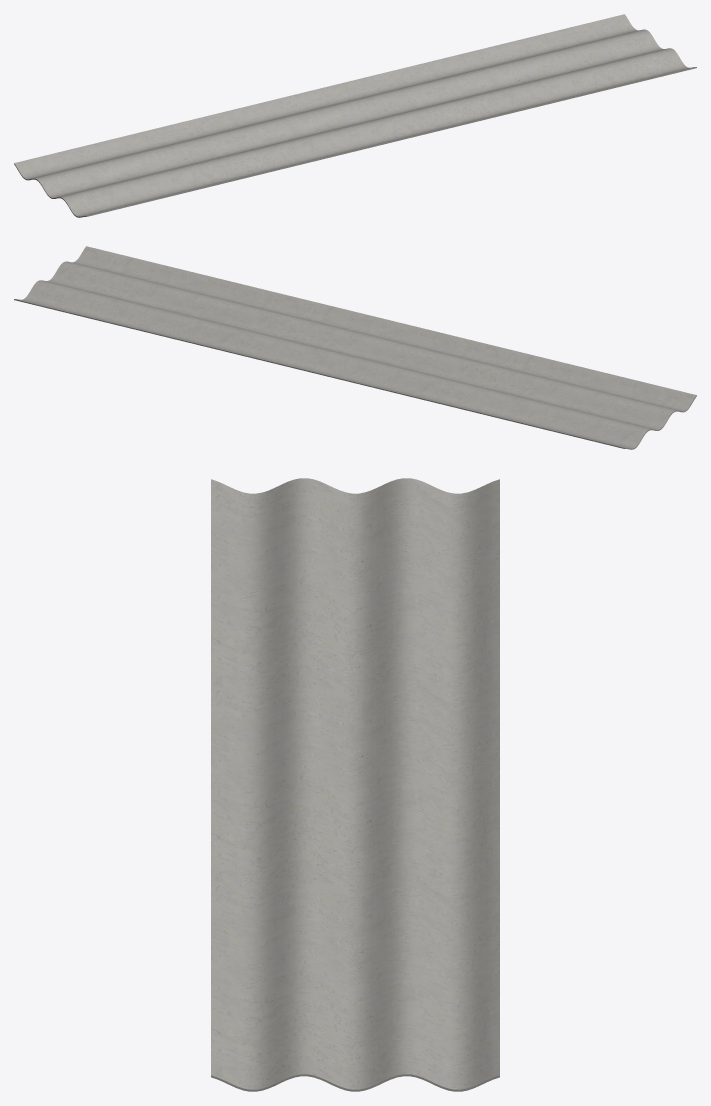
The model's file is COB-FIB-001.glb.
3 views of the same model, one above another, from view 1: azimuth 30°, elevation 25°; view 2: azimuth 150°, elevation 25°; view 3: azimuth 270°, elevation 25° (orthographic). The views are drawn at different scales.
Visible parts, largest first — view 1: COB-FIB-001_chapa; view 2: COB-FIB-001_chapa; view 3: COB-FIB-001_chapa.
Boxes of the visible parts, box(x1,y1,x2,y2) form: COB-FIB-001_chapa: box(14, 14, 696, 217); COB-FIB-001_chapa: box(14, 246, 696, 449); COB-FIB-001_chapa: box(211, 478, 499, 1091).
Size of the model in its own units: 2.44 by 0.0335 by 0.5.
1 material, 1 textured.
